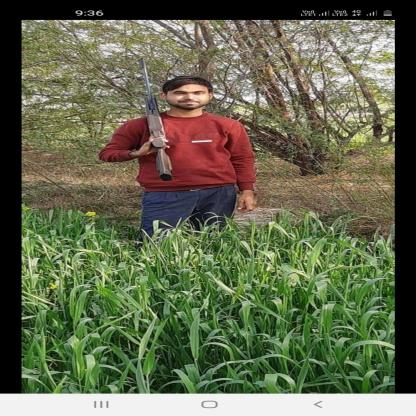rifle: (138, 59, 184, 182)
